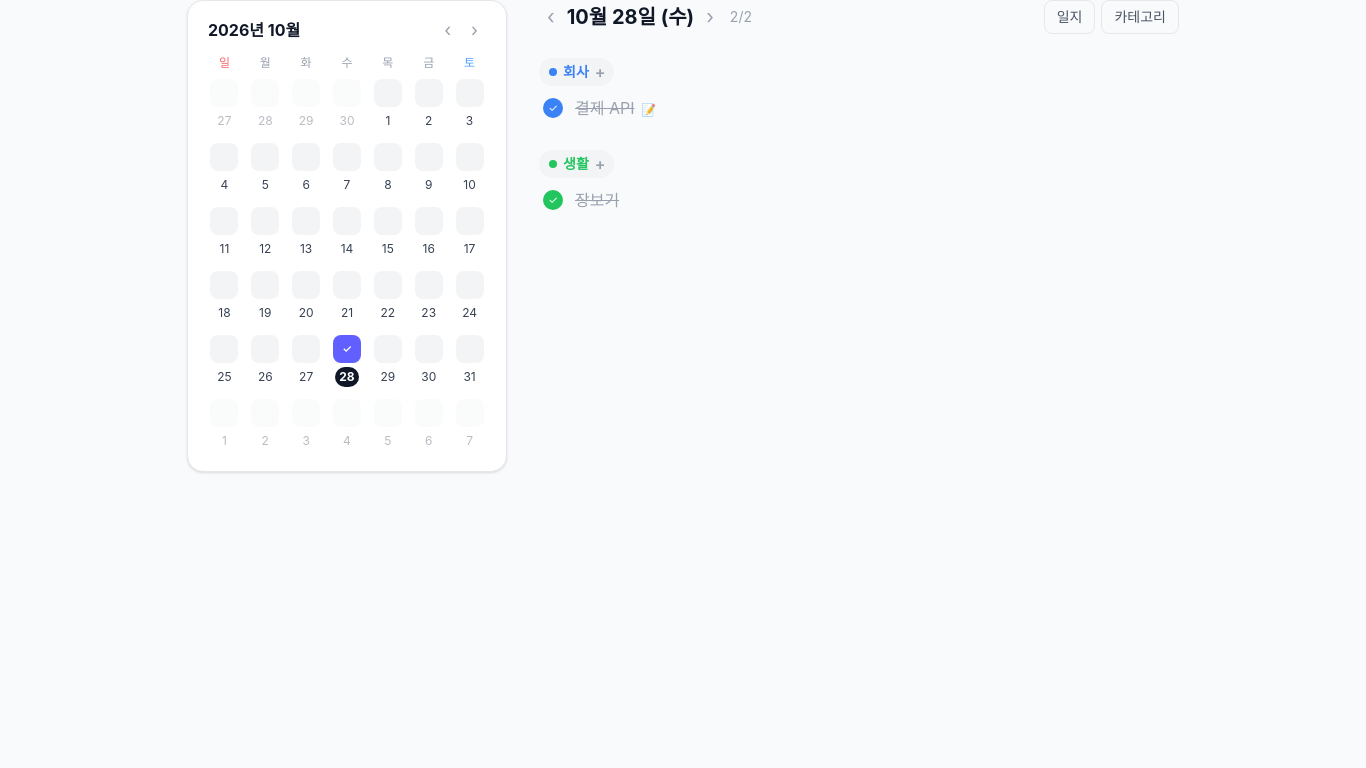
Test case: TodoPage › 일지 모아보기에서 이번 주 회사 일지를 보고, 일기로 바꿀 수 있다
Click the button "일지": (1070, 17) x1=1044 y1=0 x2=1096 y2=34
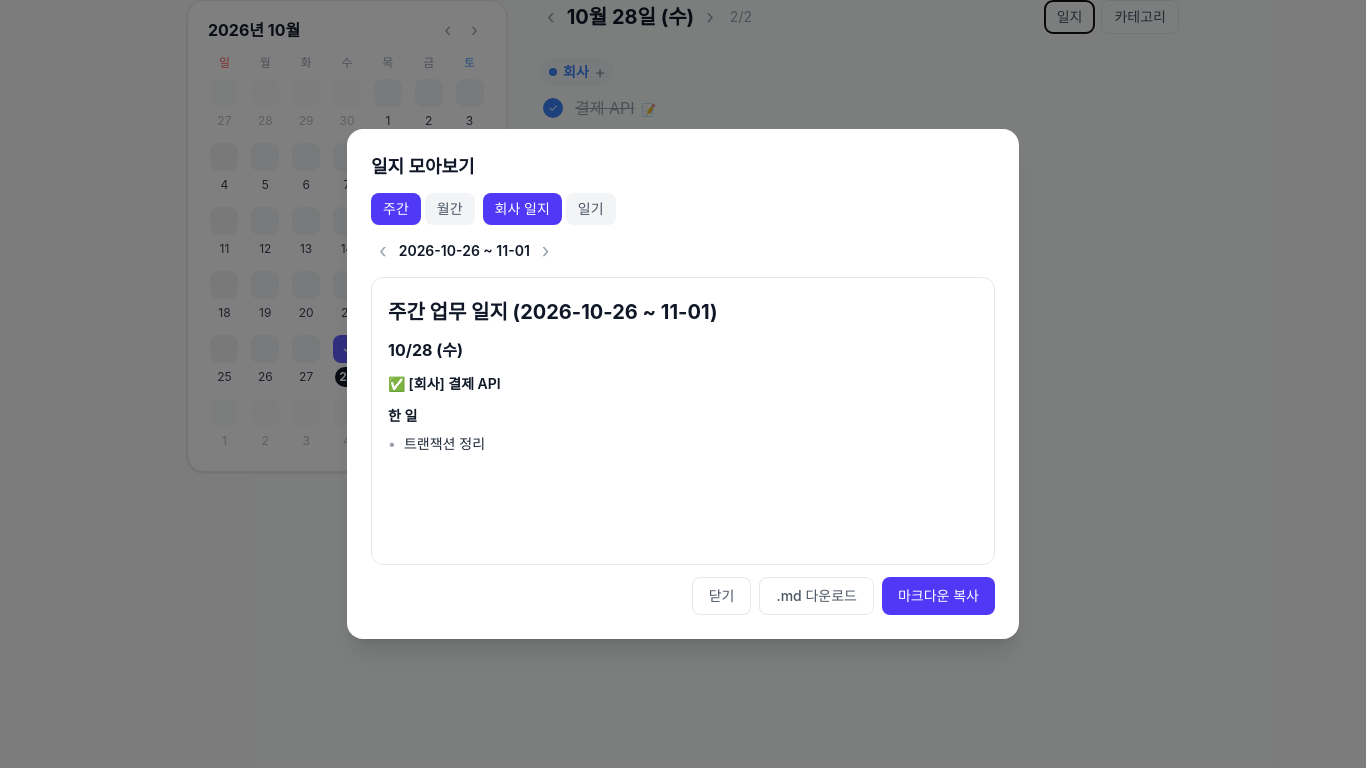
Now the heading "주간 업무 일지 (2026-10-26 ~ 11-01)" is shown, box x1=388 y1=300 x2=718 y2=324
Now the text "트랜잭션 정리" is shown, box x1=404 y1=434 x2=485 y2=454
Click the button "일기": (591, 209) x1=566 y1=193 x2=616 y2=225
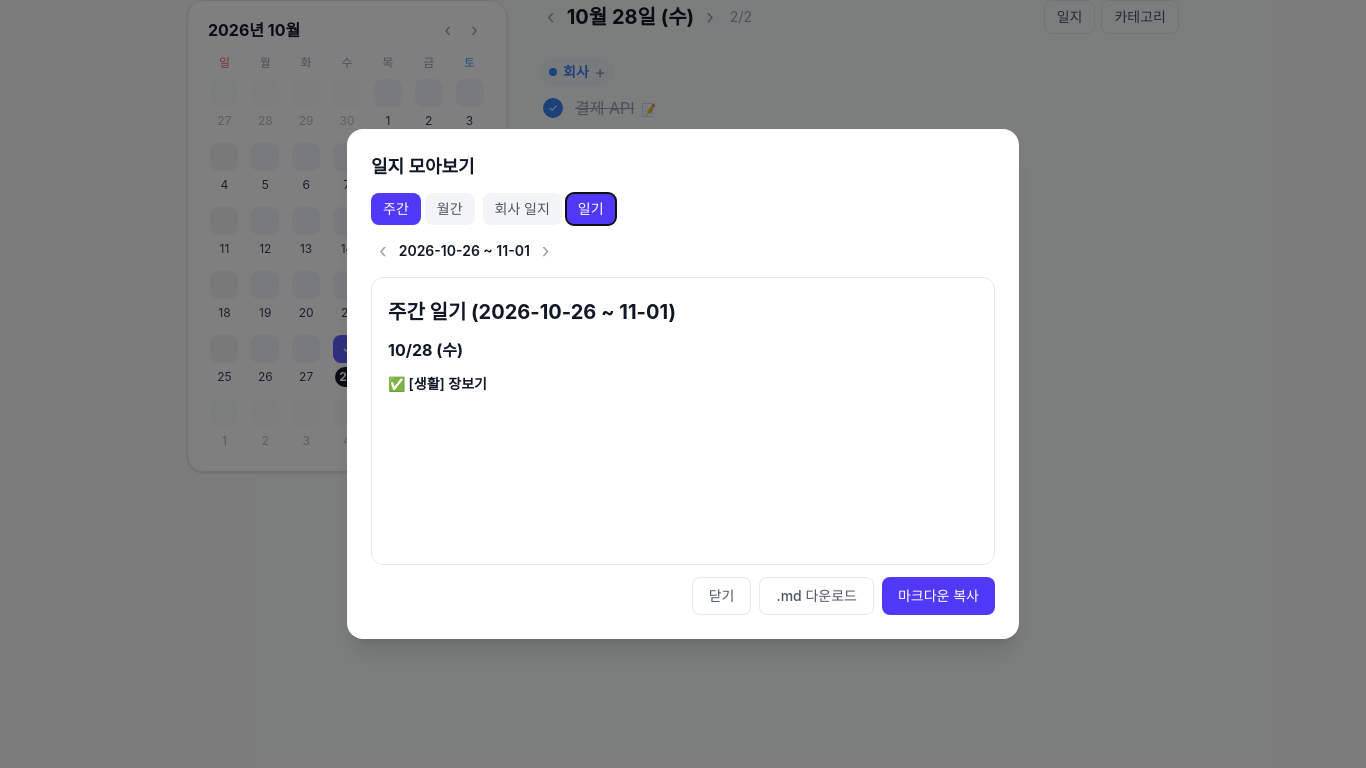
Now the heading "✅ [생활] 장보기" is shown, box x1=388 y1=375 x2=487 y2=392
Click the button named "다음 기간": (546, 251) x1=534 y1=237 x2=558 y2=265
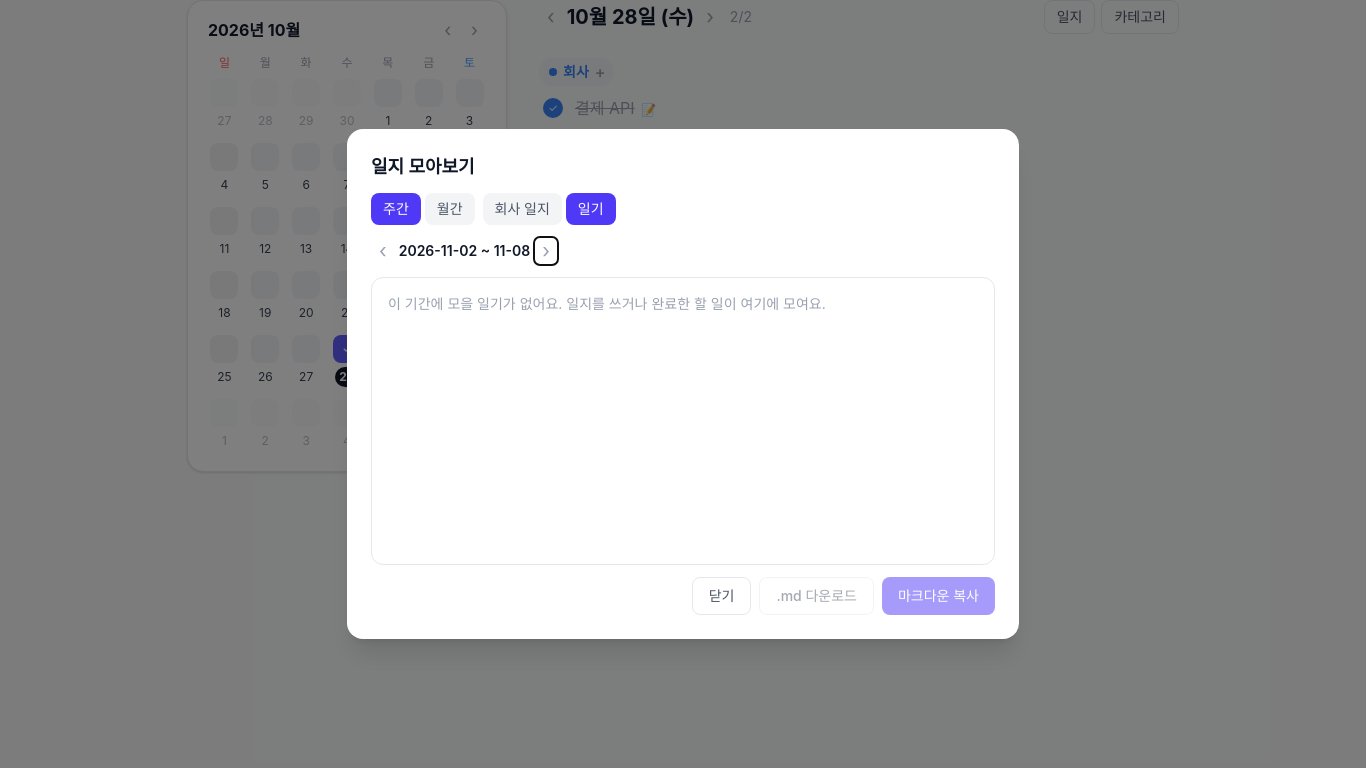
Now the text "이 기간에 모을 일기가 없어요. 일지를 쓰거나 완료한 할 일이 여기에 모여요." is shown, box x1=388 y1=295 x2=826 y2=312
